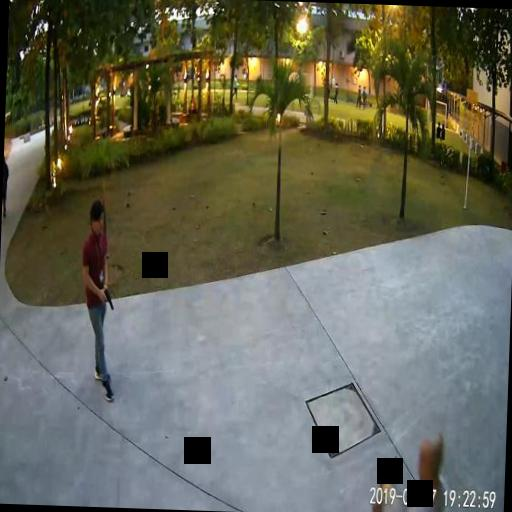Handgun: (101, 286, 113, 309)
